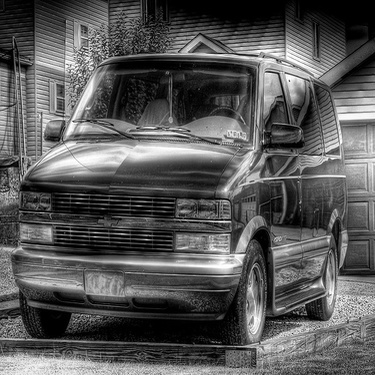car: (42, 33, 357, 340)
